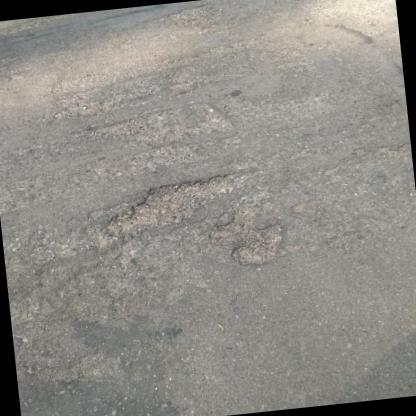pothole: (96, 169, 250, 240), (226, 221, 288, 268)
